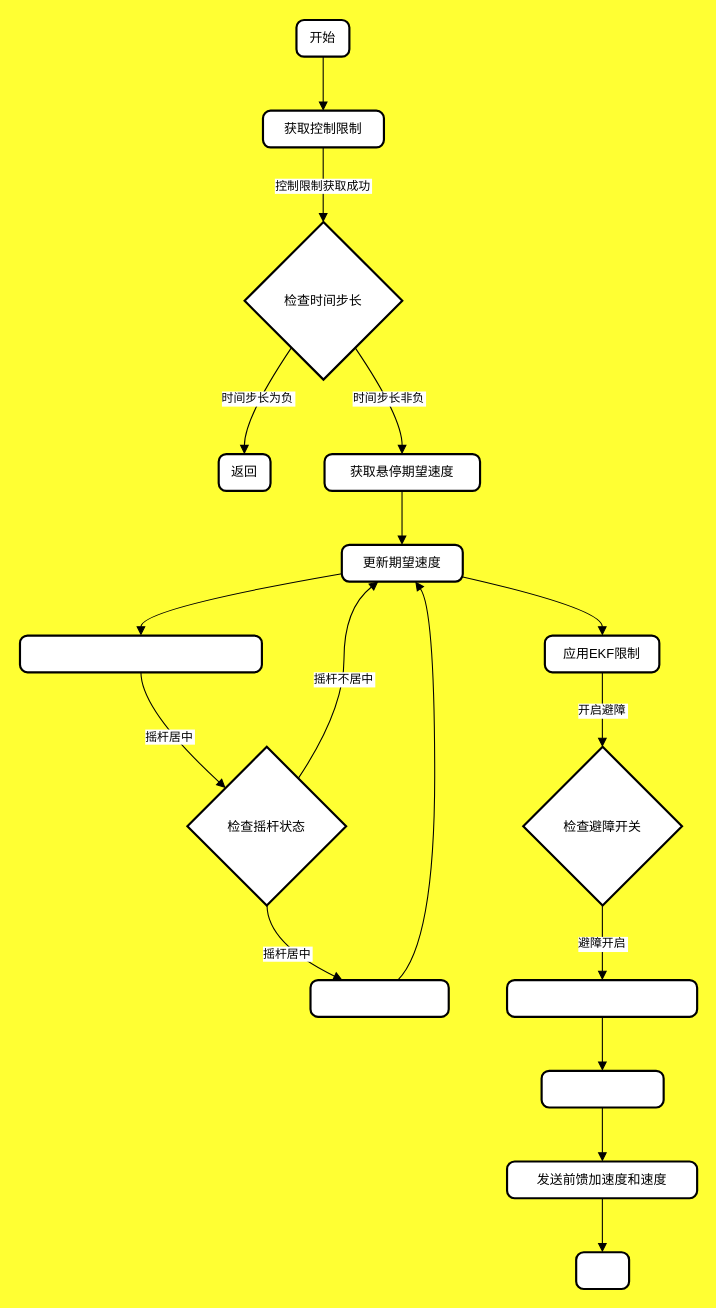
Image size: 716x1308. Some labels were removed from this diagram. The shapes that lost their labels are listed below. From the top down, each one's centre as x and y in pixels, then its label:
At [140,653]: "计算阻力加速度和刹车加速度".
At [379,997]: "计算刹车加速度".
At [601,997]: "限制速度以防围栏违规".
At [602,1088]: "更新目标位置".
At [602,1270]: "结束".
